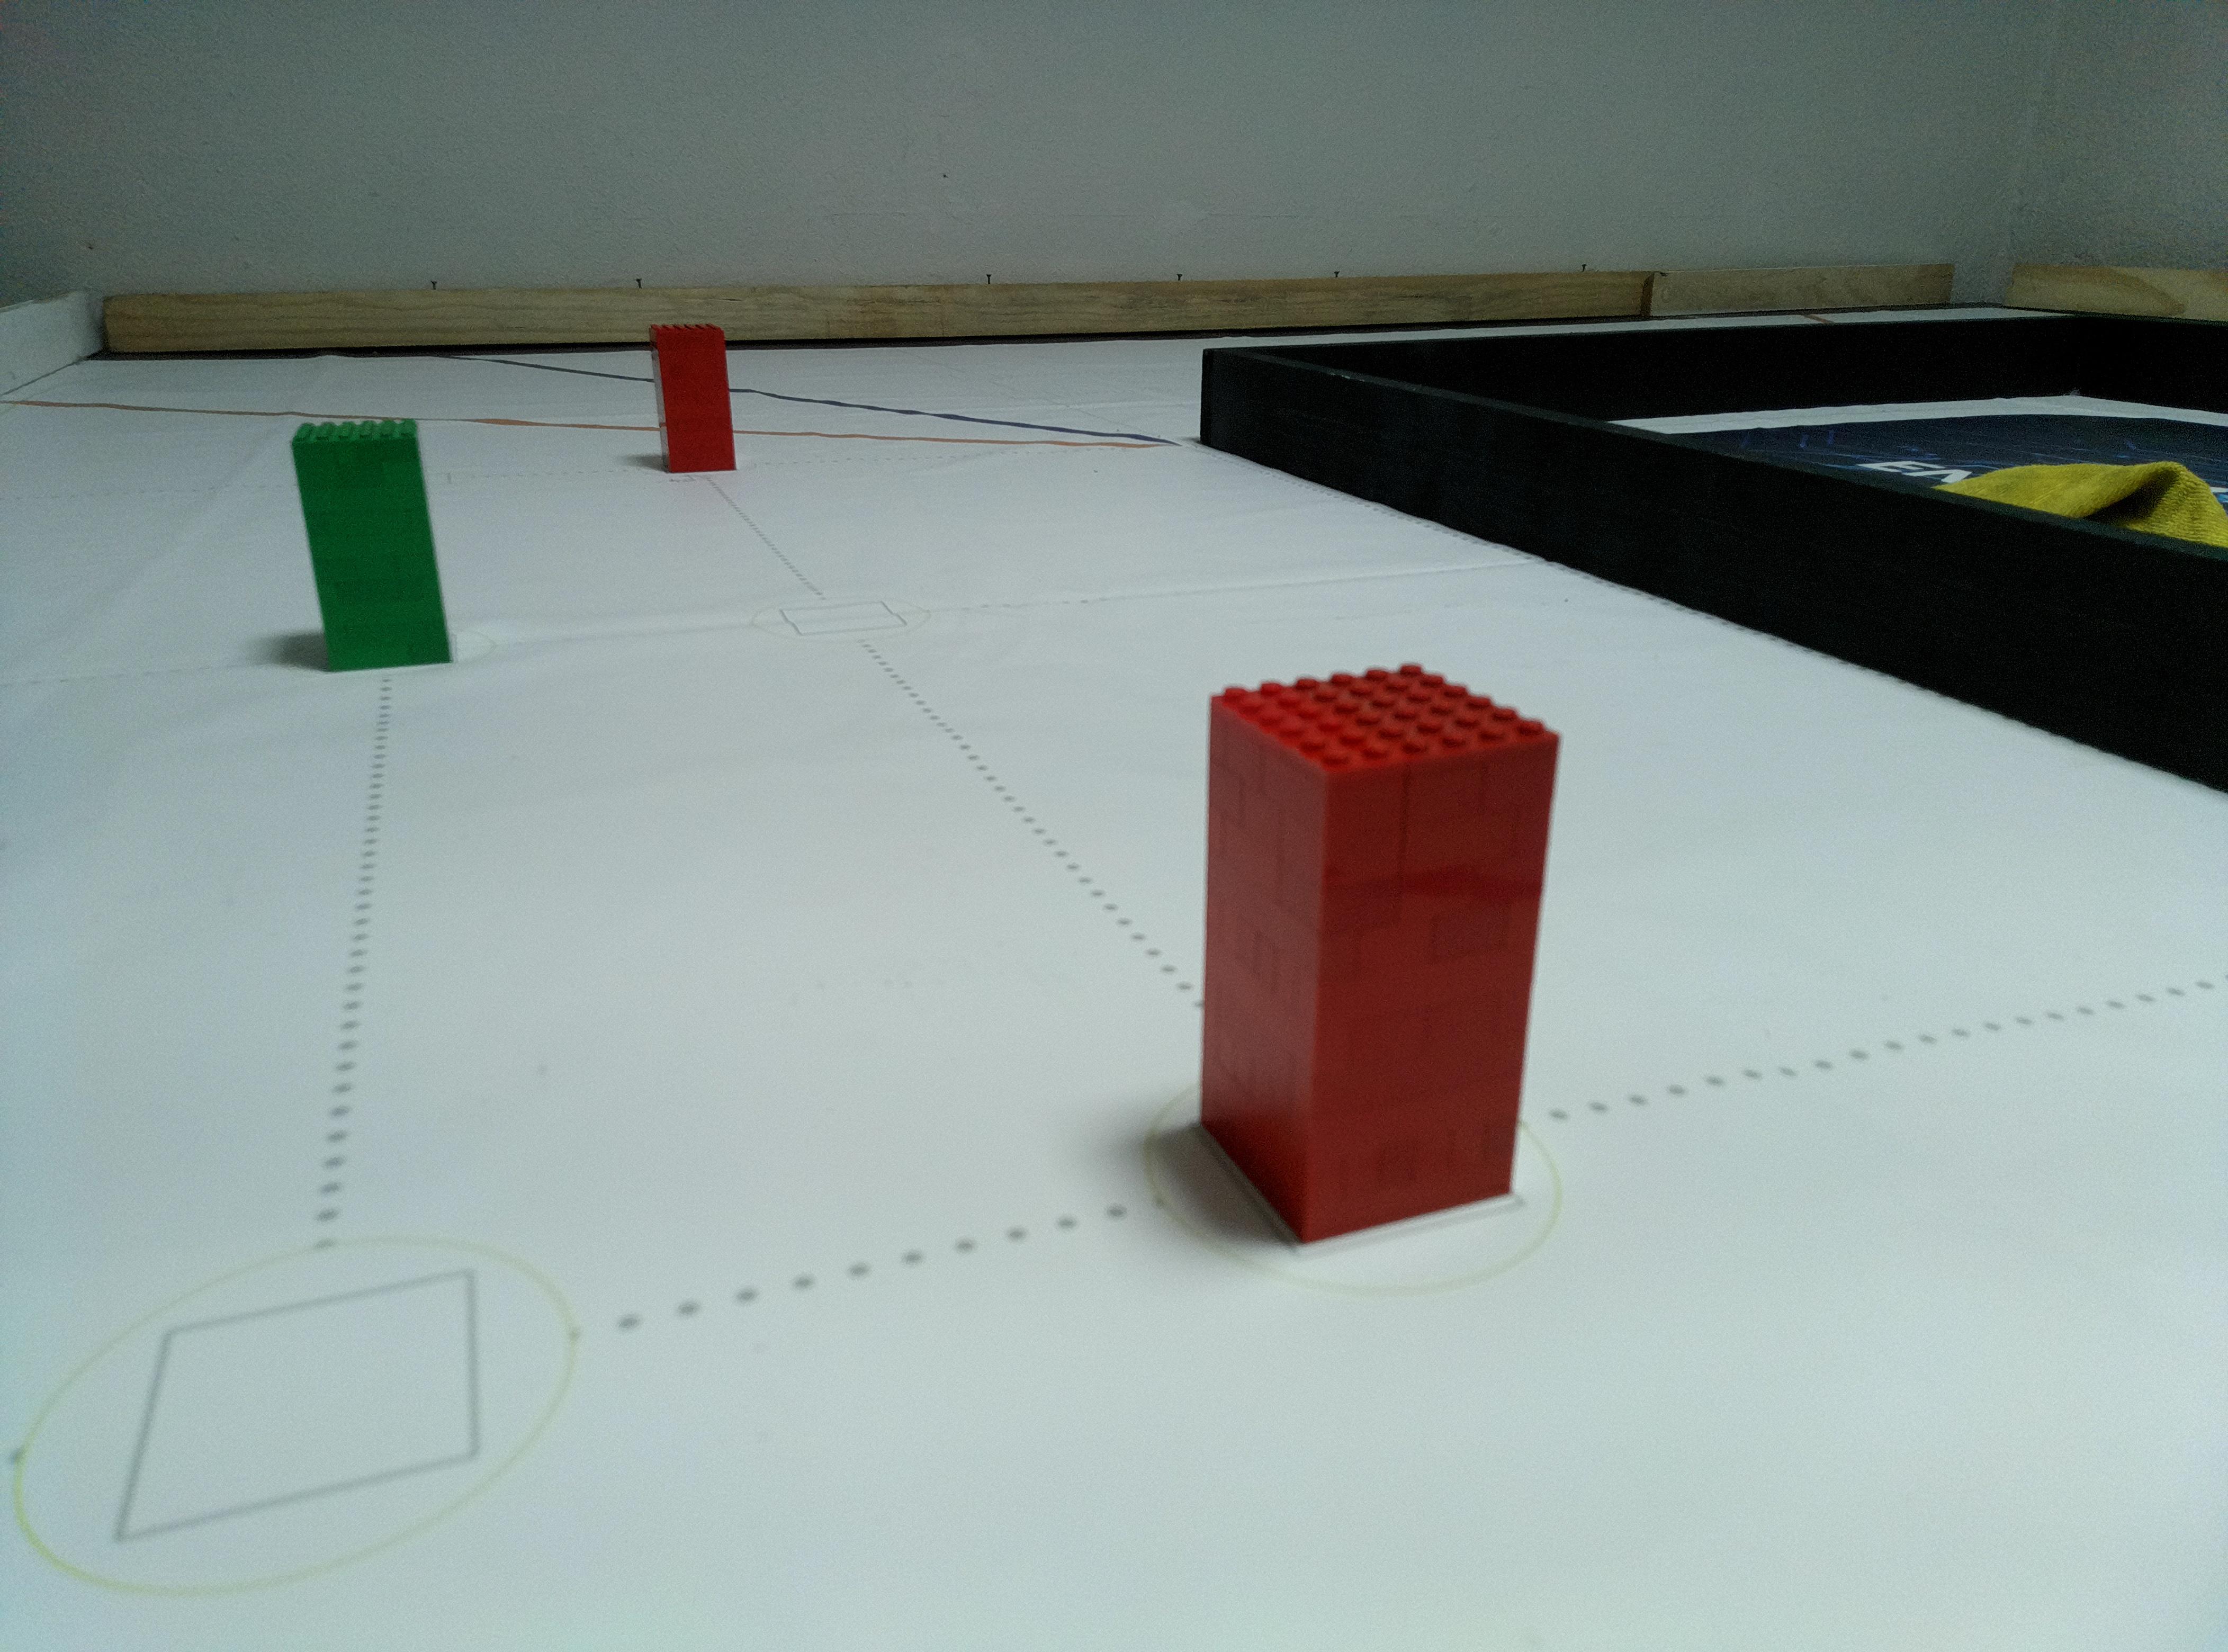greenbox: (288, 418, 455, 672)
redbox: (1194, 661, 1563, 1249), (645, 324, 737, 475)
